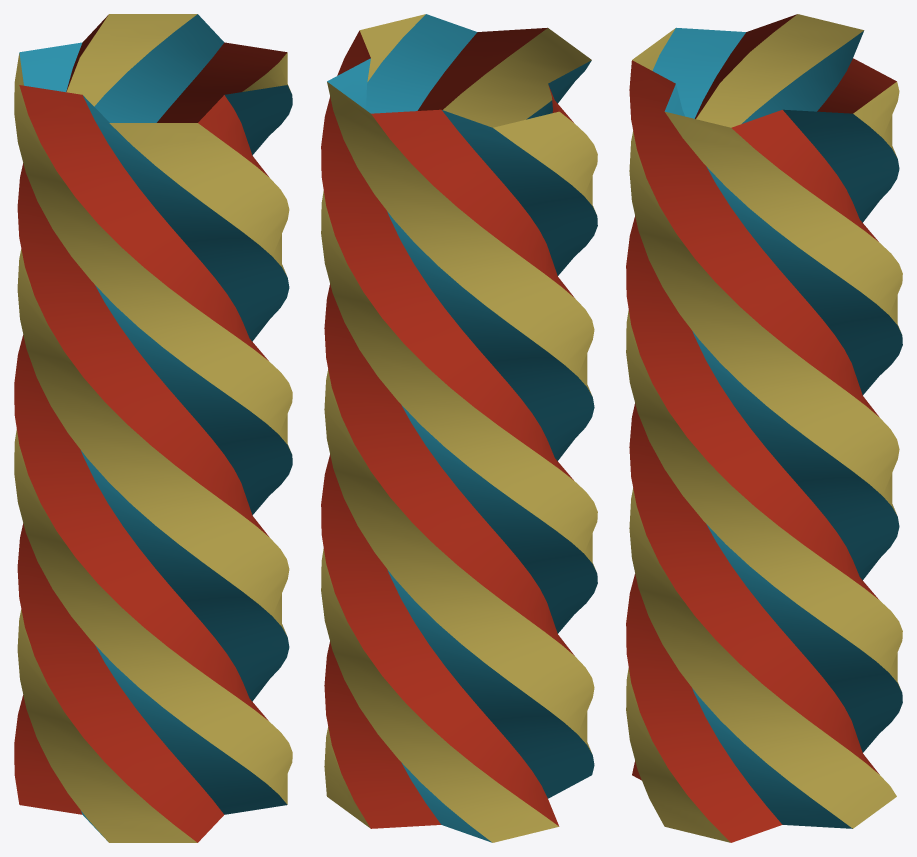
File: tower_b.FBX
3 renders of one model, left to right at view 1: azimuth 30°, elevation 25°; view 2: azimuth 150°, elevation 25°; view 3: azimuth 270°, elevation 25°, orthographic.
Visible parts, largest first — view 1: Object021; view 2: Object021; view 3: Object021.
Boxes of the visible parts, <box> form: Object021: <box>14,14,292,842</box>; Object021: <box>321,14,597,842</box>; Object021: <box>626,14,902,842</box>.
Bounding box in the file's own units: 5050 × 14406 × 5050.
